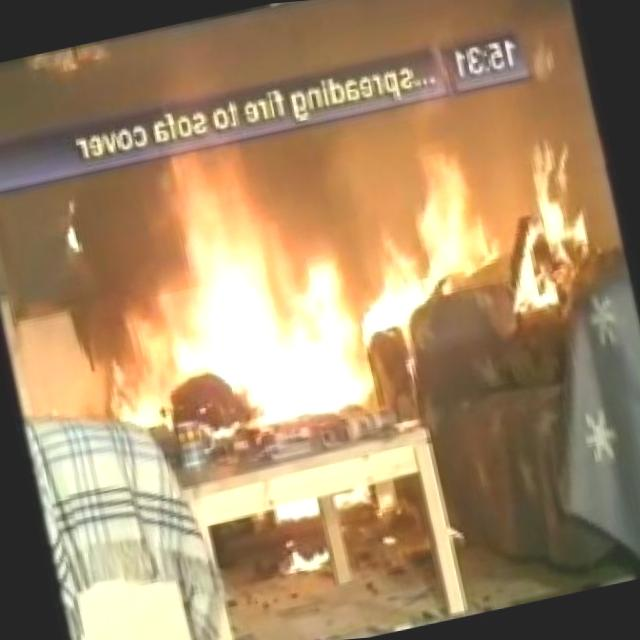fire: (99, 124, 520, 464)
